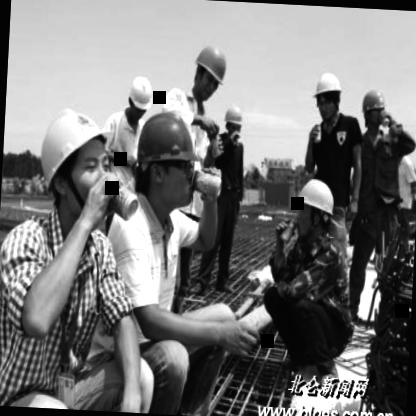helmet: (28, 94, 116, 222), (134, 105, 204, 210), (290, 172, 338, 242), (188, 38, 229, 106), (310, 65, 346, 127), (123, 70, 156, 121), (358, 86, 390, 132), (221, 100, 246, 141)
